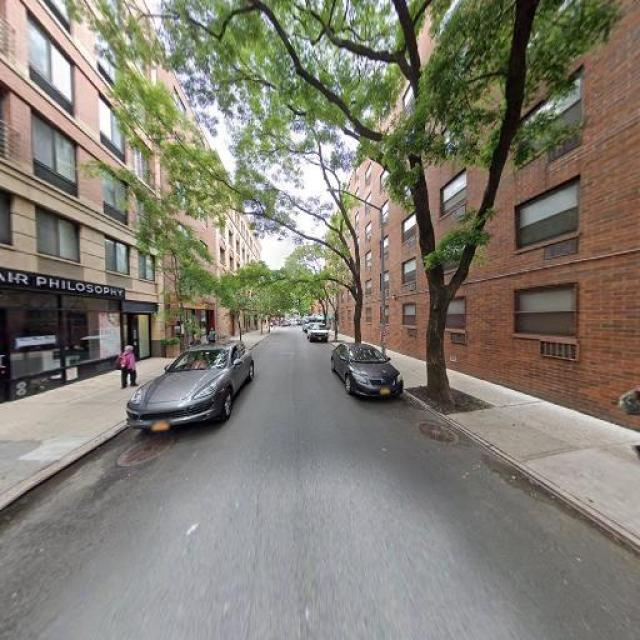Building: (327, 1, 640, 429), (1, 1, 159, 404)
